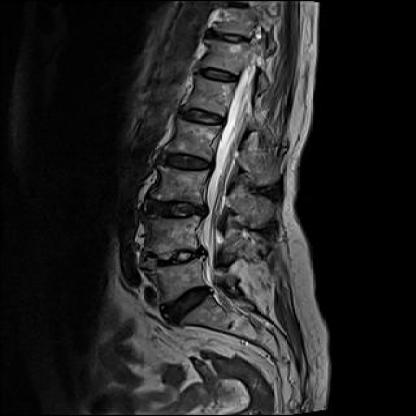Annular Tearrotation: (160, 290, 217, 318), (142, 247, 205, 270)
Disc Bulgerotation: (160, 290, 217, 318), (141, 248, 204, 270), (160, 151, 212, 175), (180, 107, 228, 128)
